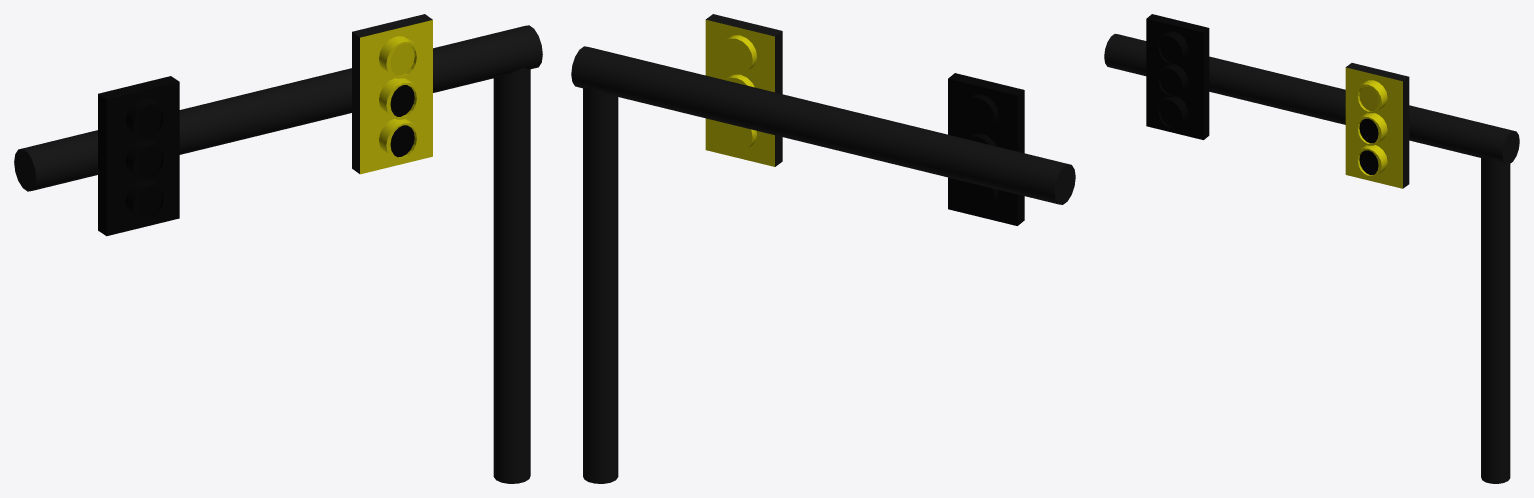
Rendered from Traffic_light.dae.
3 views of the same model, side by side, from view 1: azimuth 30°, elevation 25°; view 2: azimuth 150°, elevation 25°; view 3: azimuth 330°, elevation 25° (orthographic). The views are drawn at different scales.
Parts seen in each view (by area): view 1: polySurface3_ncl1_1; view 2: polySurface3_ncl1_1; view 3: polySurface3_ncl1_1.
Part boxes in pixels (bbox=[...]): polySurface3_ncl1_1: bbox=[14, 14, 542, 483]; polySurface3_ncl1_1: bbox=[571, 14, 1075, 483]; polySurface3_ncl1_1: bbox=[1104, 14, 1519, 483].
Bounding box in the file's own units: 6.94 × 6.48 × 0.901.
